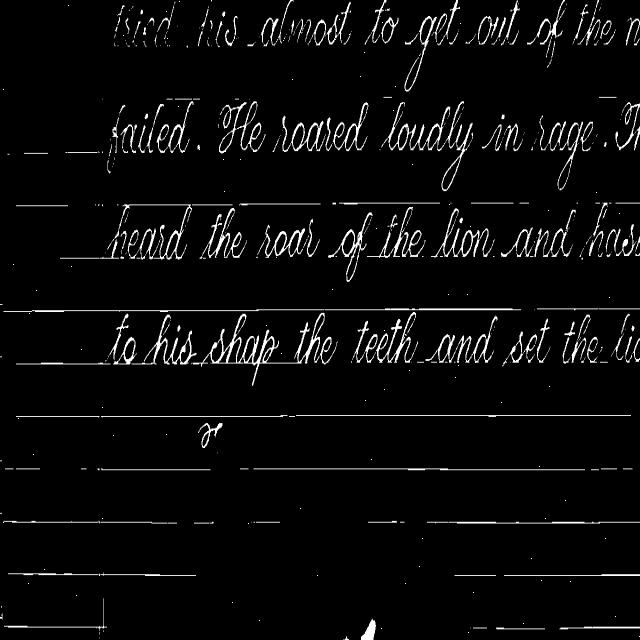hand: (360, 620, 376, 639), (361, 620, 376, 639), (344, 636, 348, 639)
noise: (16, 411, 631, 420), (3, 307, 640, 314), (235, 465, 634, 474), (4, 620, 107, 636), (7, 570, 196, 578), (425, 518, 640, 525), (75, 466, 213, 473), (2, 519, 178, 524), (503, 572, 640, 577), (122, 203, 232, 209), (20, 149, 102, 156), (330, 202, 441, 206), (16, 362, 110, 366), (559, 625, 640, 629), (59, 255, 104, 261), (238, 203, 322, 206), (4, 466, 44, 472), (602, 202, 640, 208), (191, 521, 215, 530), (494, 627, 546, 631), (100, 597, 106, 631), (368, 518, 406, 523), (454, 572, 498, 576), (250, 519, 281, 524), (268, 363, 296, 368), (16, 204, 68, 206), (470, 202, 516, 204), (598, 94, 616, 97), (174, 98, 199, 100), (384, 96, 392, 99), (518, 202, 530, 204), (471, 627, 488, 628), (166, 98, 173, 100), (575, 202, 578, 204), (236, 98, 238, 100)
not-noise: (114, 0, 520, 91), (380, 101, 474, 189), (273, 101, 379, 152), (104, 311, 207, 363), (200, 314, 278, 375), (531, 116, 596, 189), (106, 204, 192, 259), (112, 102, 193, 153), (562, 312, 640, 364), (424, 316, 498, 363), (353, 311, 418, 363), (504, 210, 574, 258), (580, 203, 640, 256), (328, 212, 372, 281), (434, 209, 494, 257), (256, 219, 320, 258), (200, 207, 247, 258), (530, 0, 566, 66), (220, 100, 267, 150), (378, 207, 425, 256), (294, 312, 336, 364), (503, 318, 550, 364), (218, 107, 264, 151), (573, 0, 615, 44), (482, 114, 524, 151), (108, 314, 136, 364), (615, 102, 640, 149), (107, 113, 120, 173), (491, 123, 520, 149), (198, 423, 222, 448), (625, 18, 640, 45), (252, 361, 258, 386), (120, 104, 125, 112), (113, 123, 116, 132), (604, 141, 606, 147), (198, 144, 200, 149)
